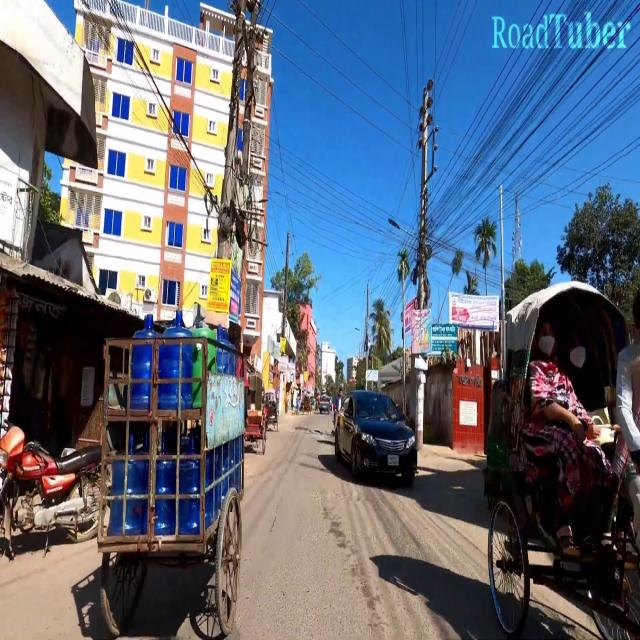black: (336, 390, 420, 491)
